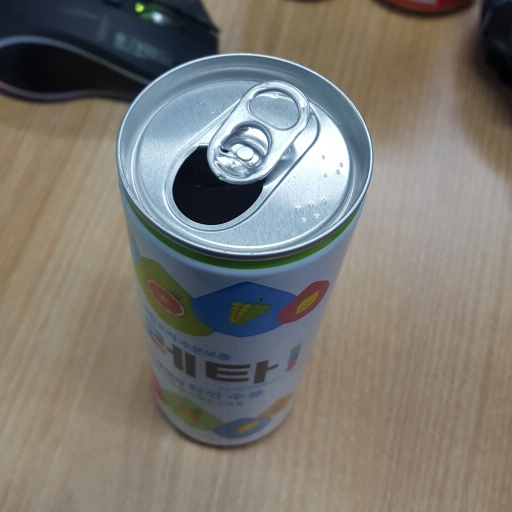Metal_0: (117, 52, 371, 448)
